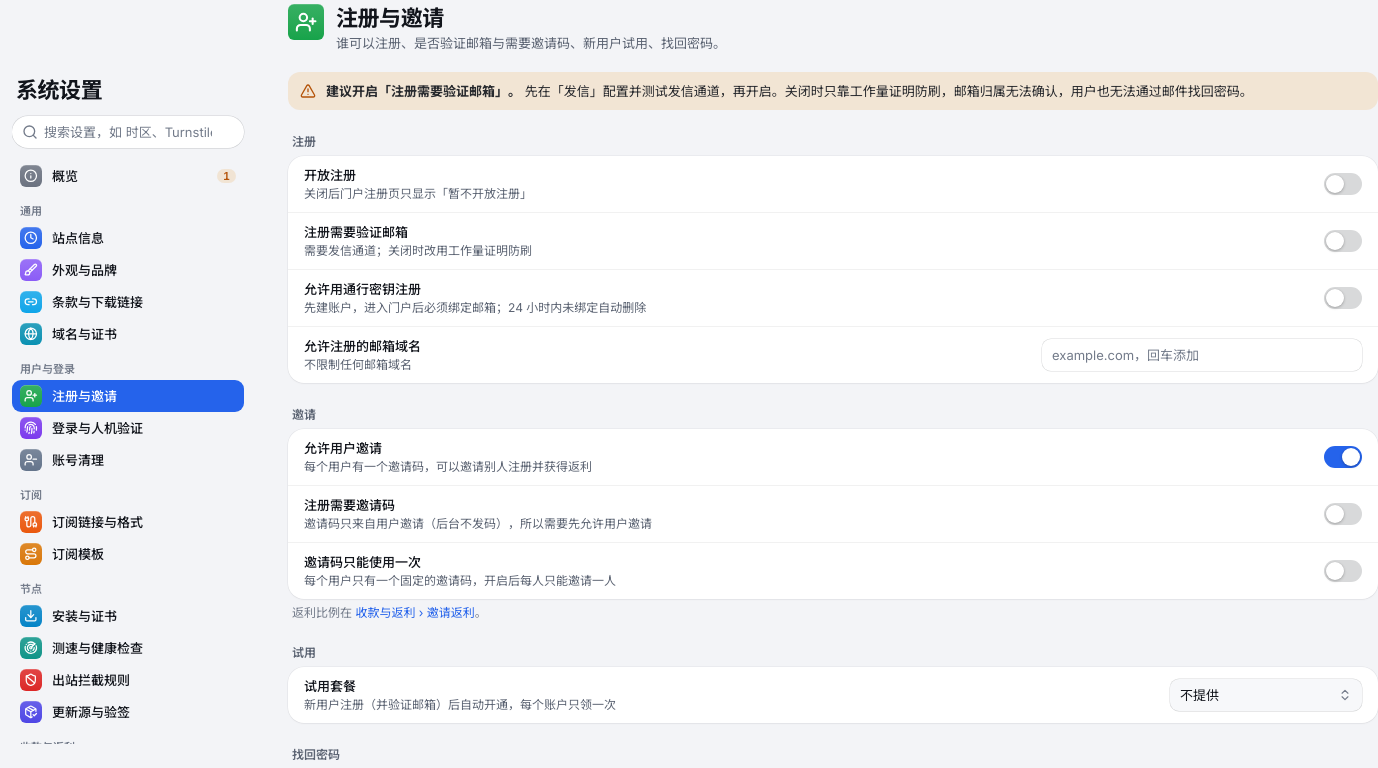
Test: edit, bar, save
Later steps or results of the test are not shown.
Click the switch named "邀请码只能使用一次" at {"x": 1343, "y": 571}, box x1=1324 y1=560 x2=1362 y2=582
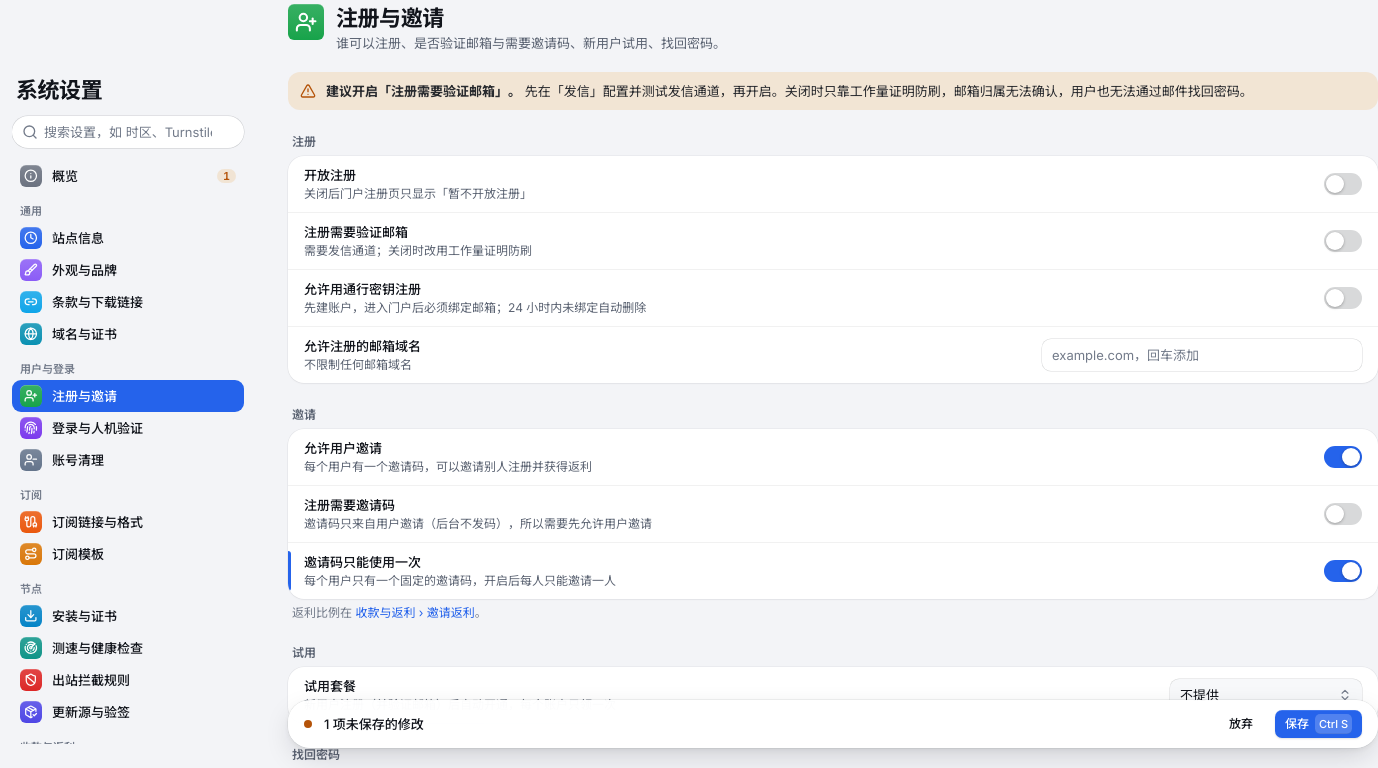
Click the switch named "开放注册" at {"x": 1343, "y": 184}, box x1=1324 y1=173 x2=1362 y2=195
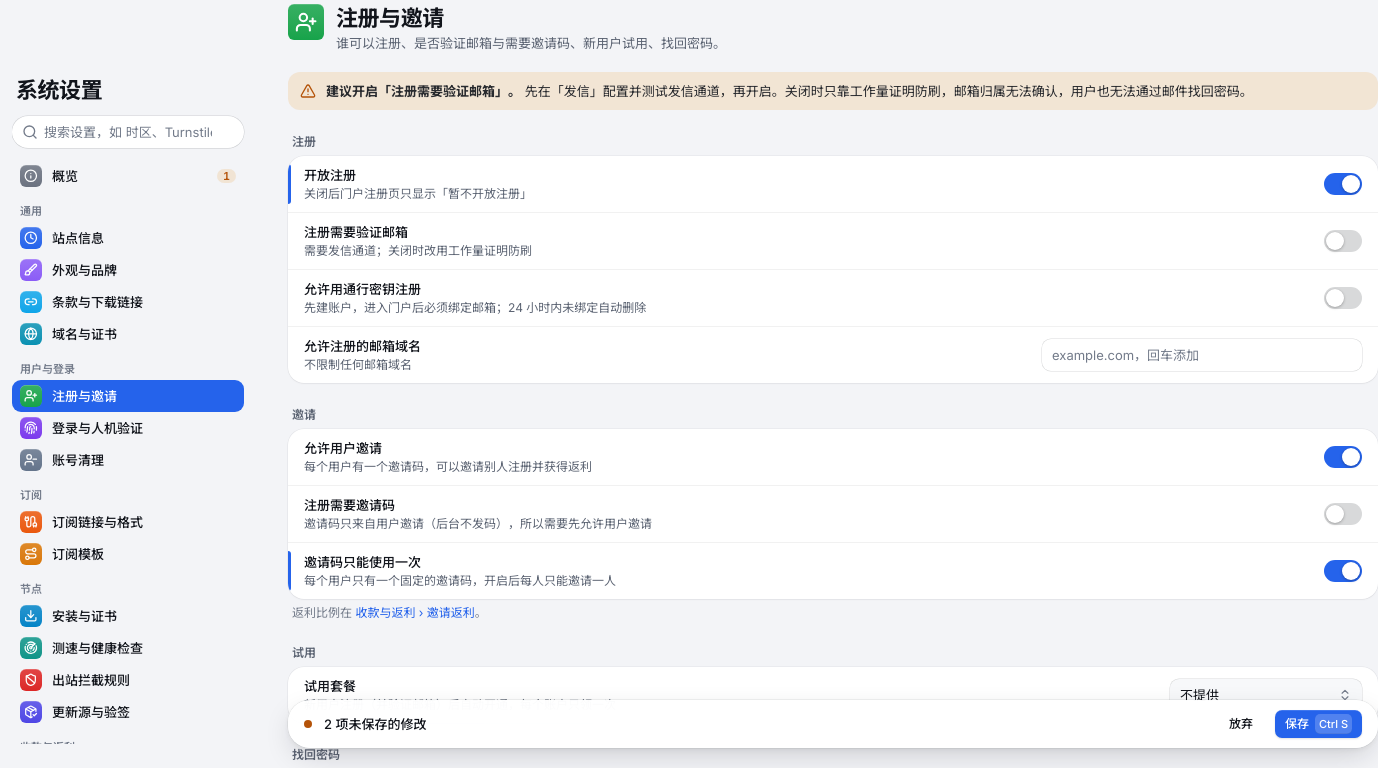
Now the element named "保存栏" shows "2 项未保存的修改", box x1=324 y1=716 x2=426 y2=732
